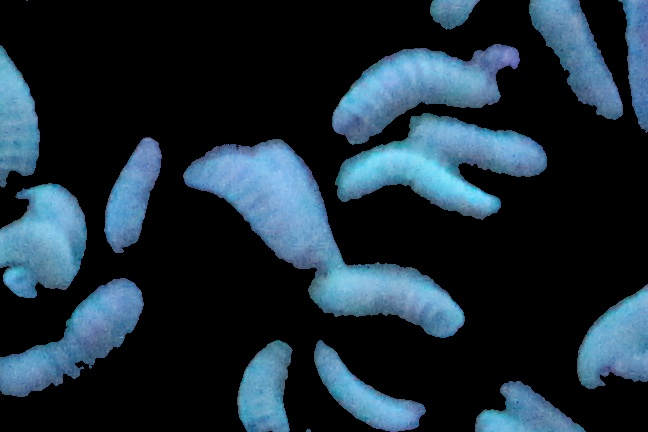larvae: (1, 276, 141, 405), (332, 49, 503, 145), (180, 148, 315, 267), (524, 1, 625, 131), (310, 339, 432, 432), (410, 112, 555, 189), (335, 159, 507, 220), (299, 272, 468, 334), (97, 132, 164, 266), (232, 335, 299, 432), (1, 33, 44, 176), (1, 222, 75, 288)
